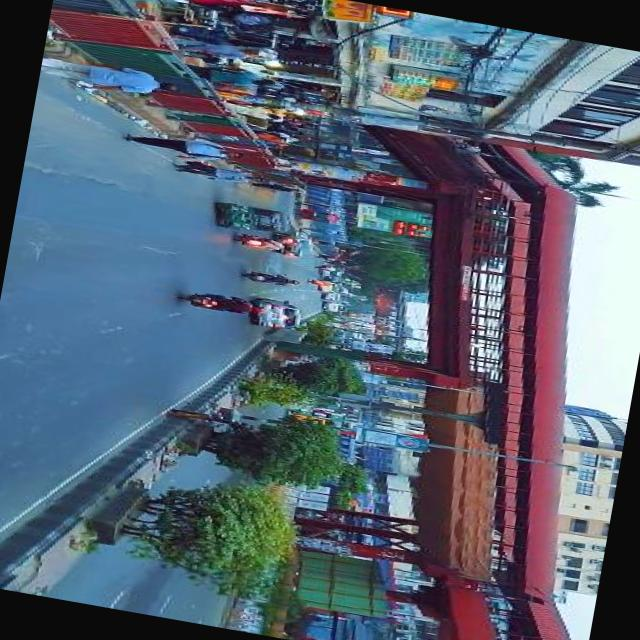car: (250, 292, 309, 334)
motorcycle: (177, 283, 271, 320), (216, 198, 296, 239), (246, 264, 307, 291), (238, 232, 298, 256)
